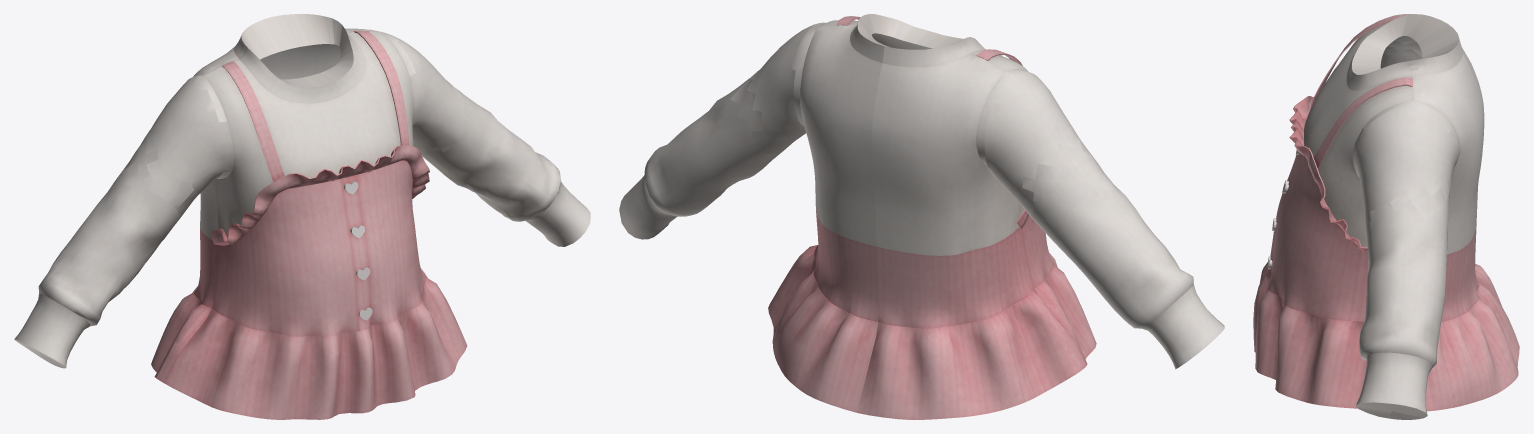
The model's file is top3.glb.
3 views of the same model, side by side, from view 1: azimuth 30°, elevation 25°; view 2: azimuth 150°, elevation 25°; view 3: azimuth 270°, elevation 25° (orthographic). The views are drawn at different scales.
Visible parts, largest first — view 1: s4studio_mesh_1; view 2: s4studio_mesh_1; view 3: s4studio_mesh_1.
Boxes of the visible parts, x1,y1,x2,y2 form: s4studio_mesh_1: (14, 14, 590, 419); s4studio_mesh_1: (619, 14, 1224, 419); s4studio_mesh_1: (1253, 14, 1519, 419).
Bounding box in the file's own units: 0.531 × 0.2963 × 0.22.
1 material, 1 textured.
